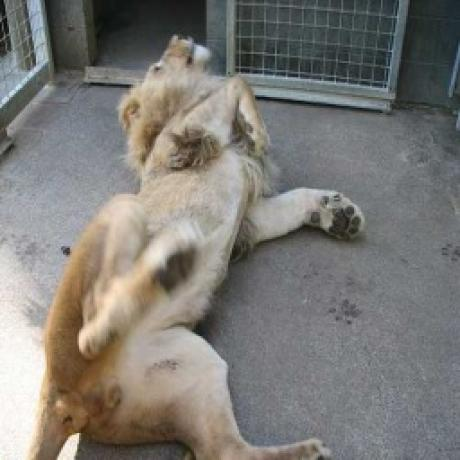Lion: (28, 30, 366, 460)
